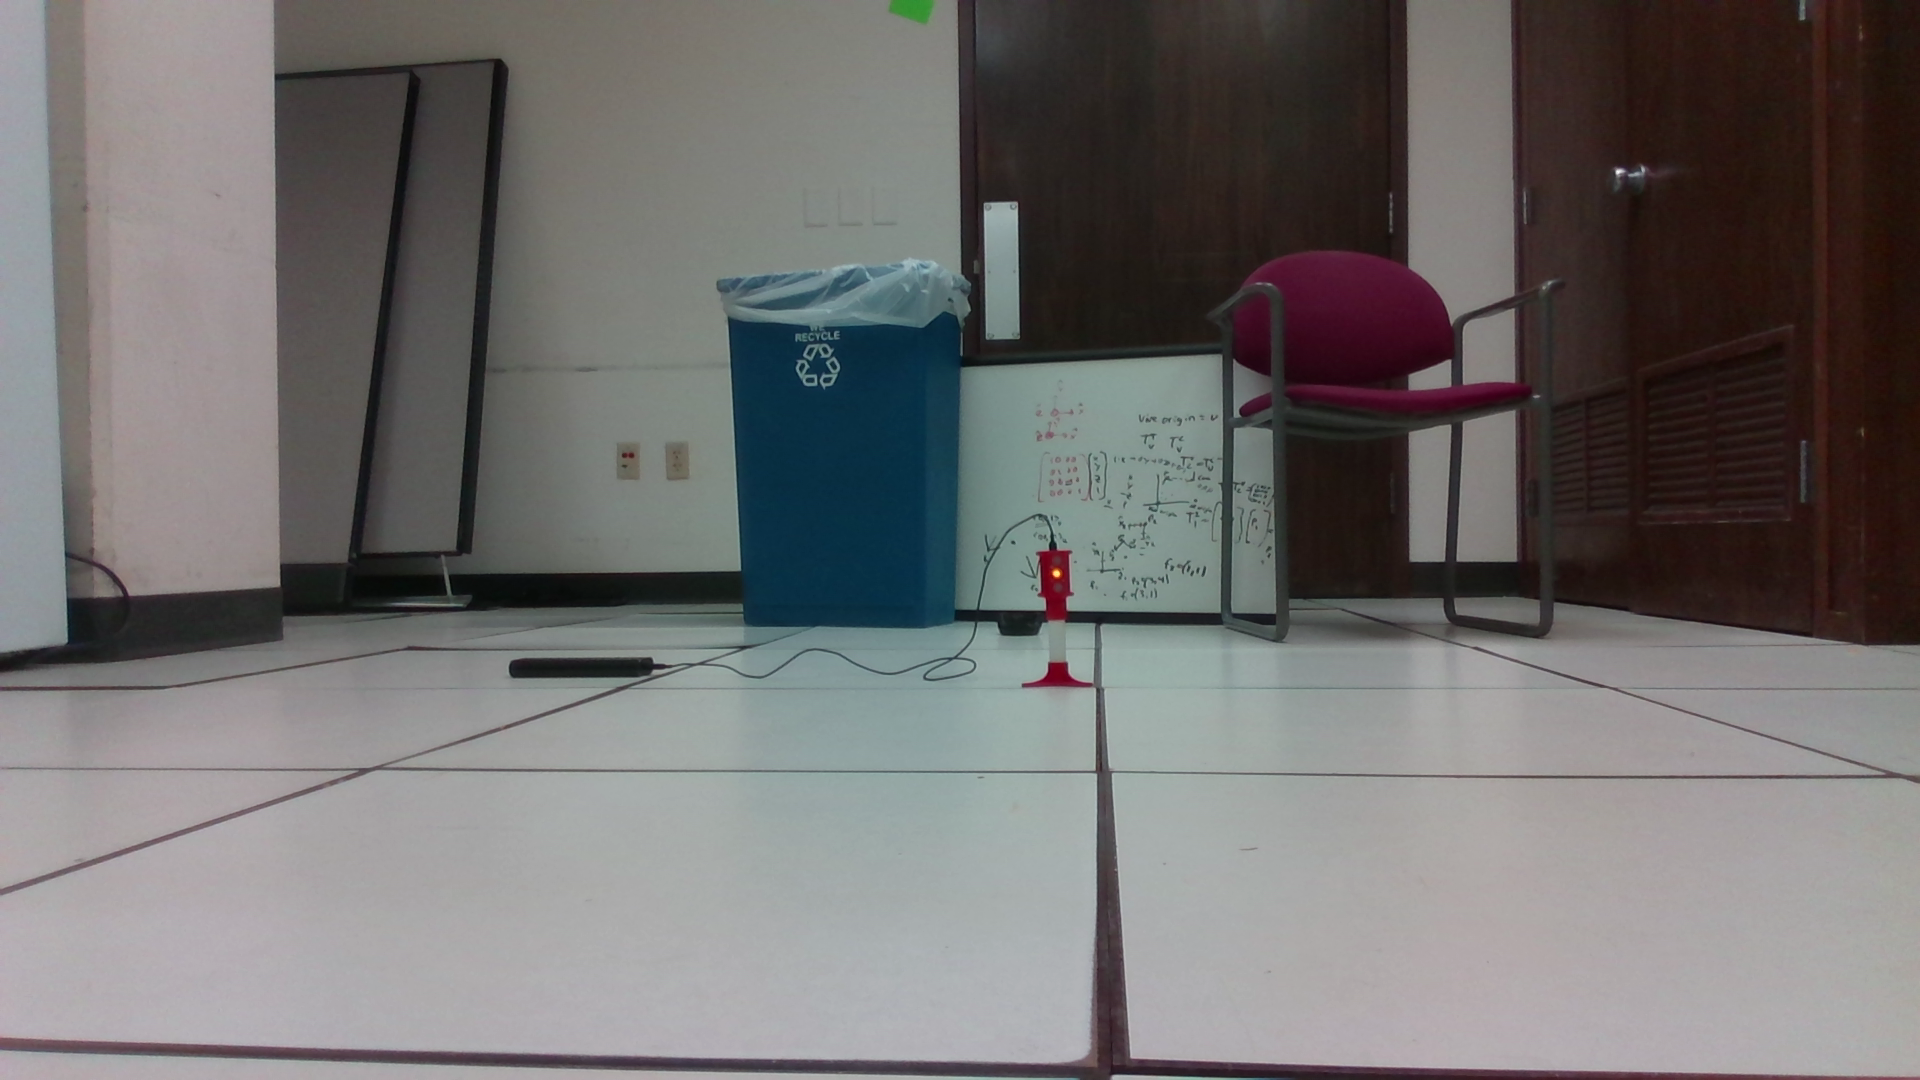stoplight: (1036, 549, 1077, 618)
